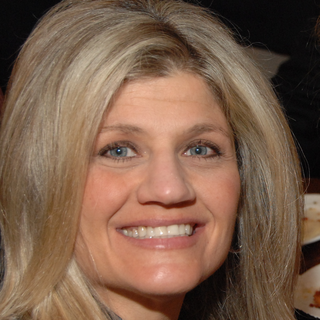eye: (97, 140, 143, 165), (176, 139, 222, 162)
